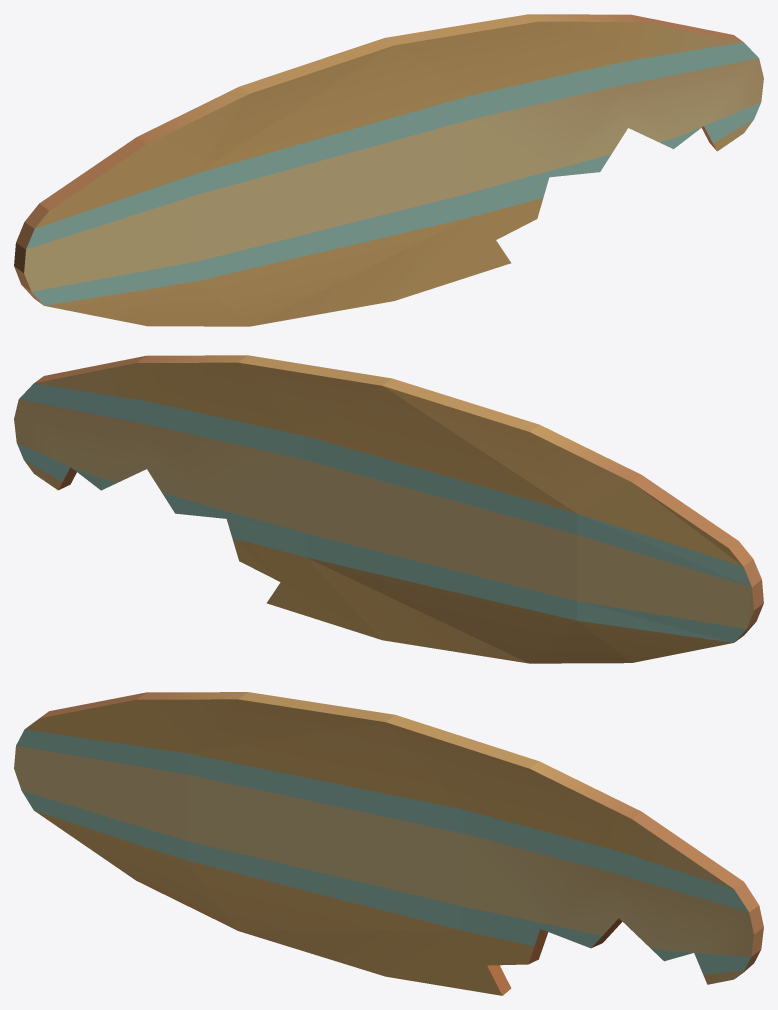
File: SurfboardSharkbiten_0.glb
3 renders of one model, top to bottom at view 1: azimuth 30°, elevation 25°; view 2: azimuth 150°, elevation 25°; view 3: azimuth 330°, elevation 25°, orthographic.
Visible parts, largest first — view 1: SurfboardSharkbiten; view 2: SurfboardSharkbiten; view 3: SurfboardSharkbiten.
Part boxes in pixels (x1,y1,x2,y2): SurfboardSharkbiten: [14, 14, 763, 326]; SurfboardSharkbiten: [14, 355, 763, 663]; SurfboardSharkbiten: [14, 692, 763, 995].
Bounding box in the file's own units: 2.31 × 0.7617 × 0.074.
